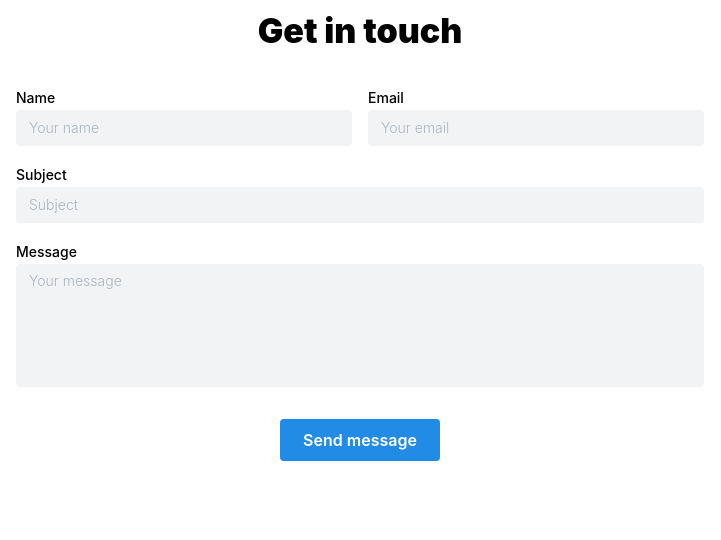
Contact form — validation › shows an error for an email without @
Type "notanemail" into the field labelled "Email".
click(536, 128); type("notanemail")  # box [368, 110, 704, 146]
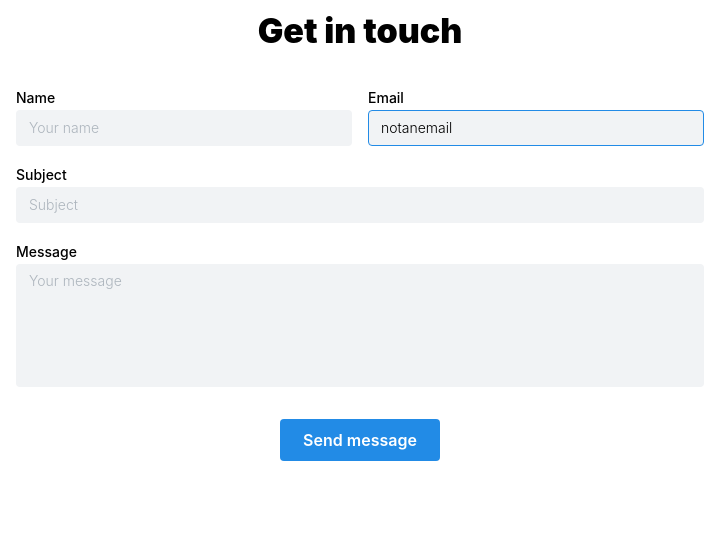
Click the button "Send message".
click(360, 440)  # box [280, 419, 440, 461]
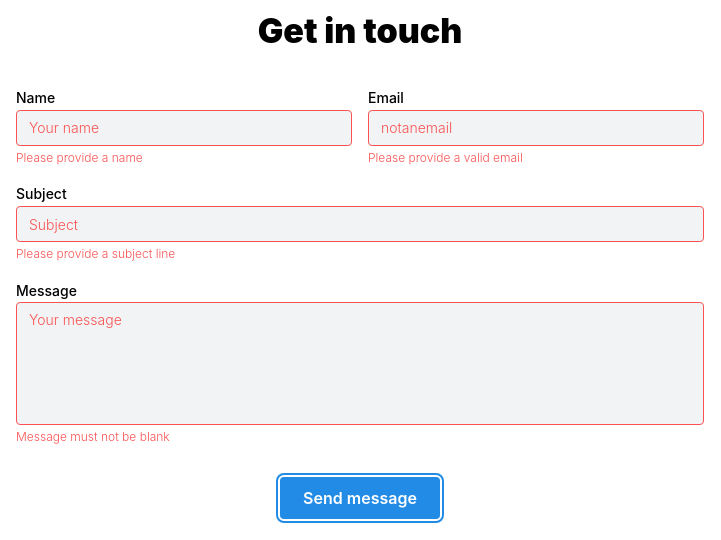
Result: the text "Please provide a valid email" is shown at [368, 150, 523, 165]
